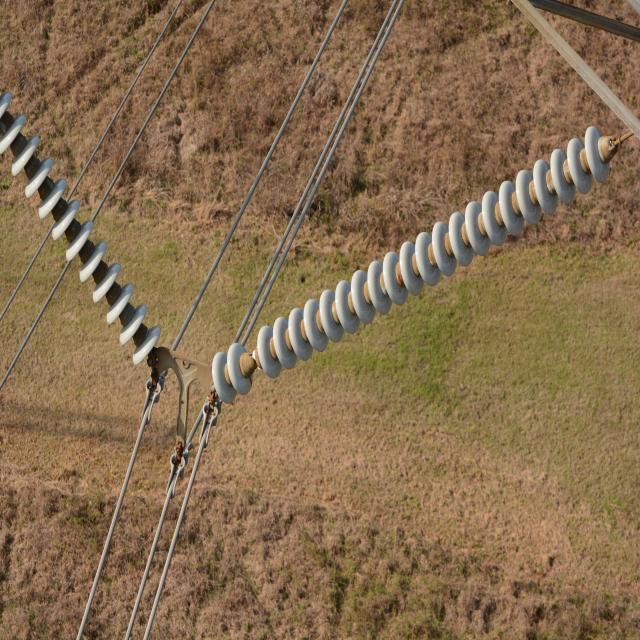broken: (249, 345, 264, 373)
insulator: (211, 126, 609, 405), (0, 93, 163, 365)
